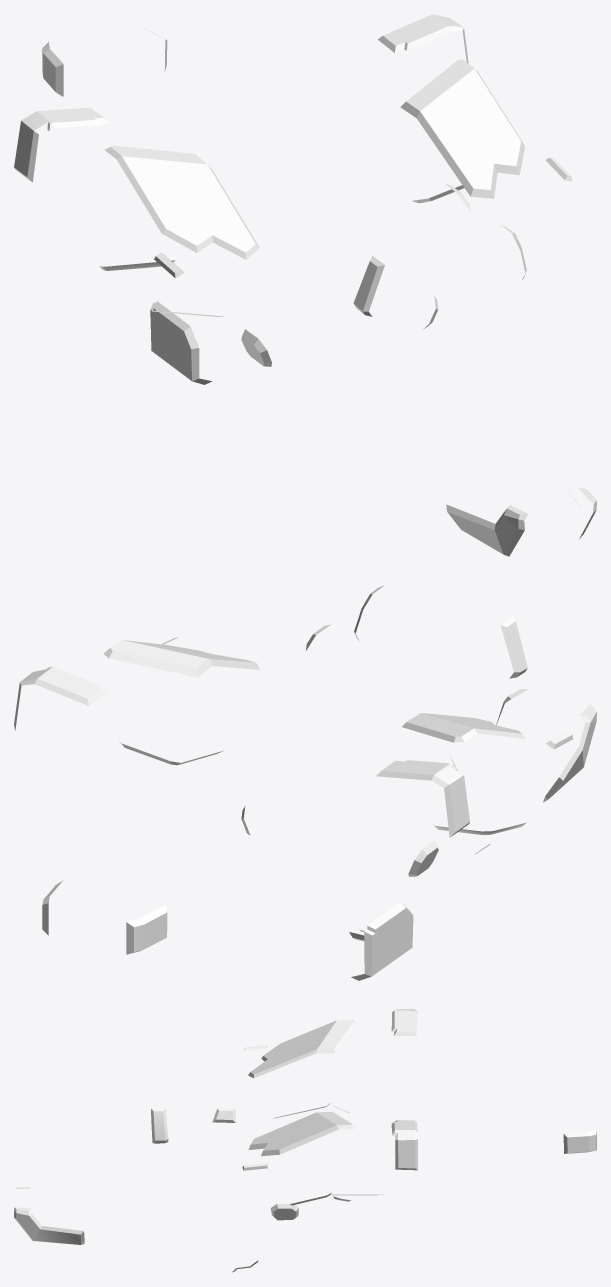
Rendered from p1_assault_frigate_01_t3.glb.
The picture shows the model from 3 angles, top to bottom: view 1: azimuth 30°, elevation 25°; view 2: azimuth 150°, elevation 25°; view 3: azimuth 270°, elevation 25°; orthographic projection. The views are drawn at different scales.
Visible parts, largest first — view 1: p1_assault_frigate_01_t3_LOD0; view 2: p1_assault_frigate_01_t3_LOD0; view 3: p1_assault_frigate_01_t3_LOD0.
Part boxes in pixels (x1=…): p1_assault_frigate_01_t3_LOD0: x1=14, y1=14, x2=596, y2=556; p1_assault_frigate_01_t3_LOD0: x1=14, y1=585, x2=596, y2=980; p1_assault_frigate_01_t3_LOD0: x1=14, y1=1009, x2=596, y2=1272.
Size of what is drawn, in the model's own units: 1.51 by 1.03 by 2.78.
1 material, 1 textured.
